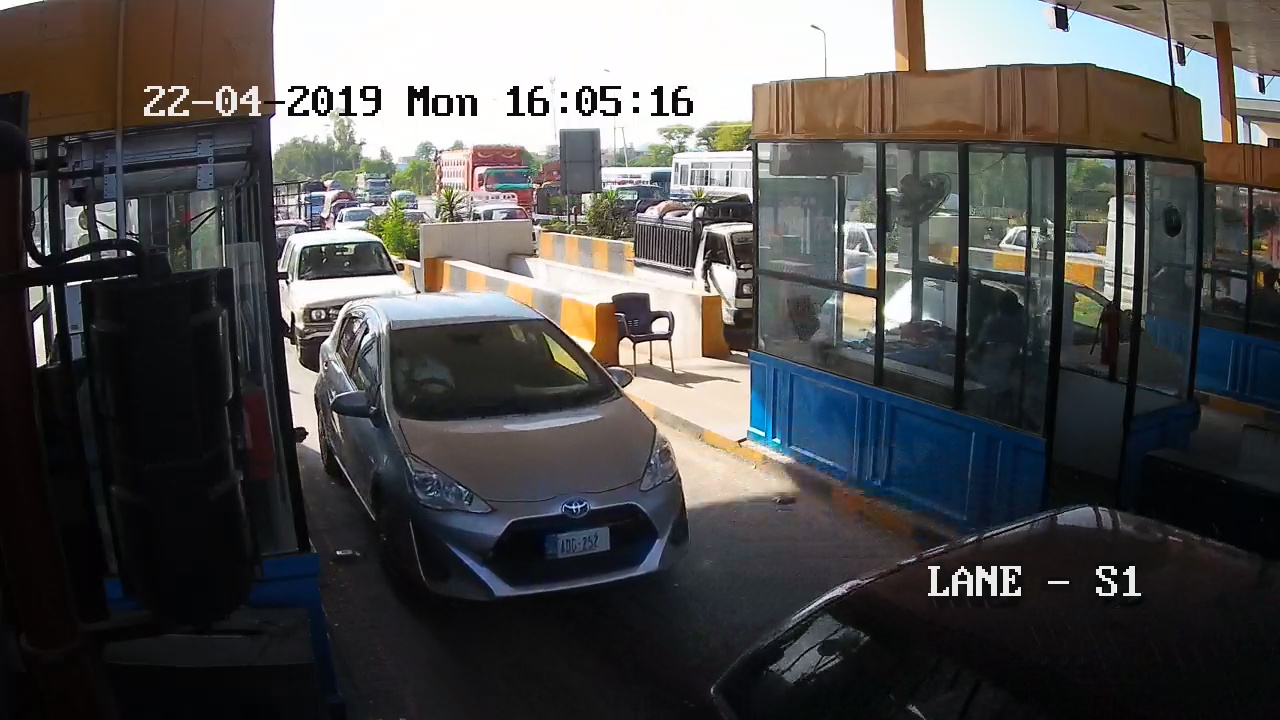Number Plate (Car): (547, 529, 607, 555)
